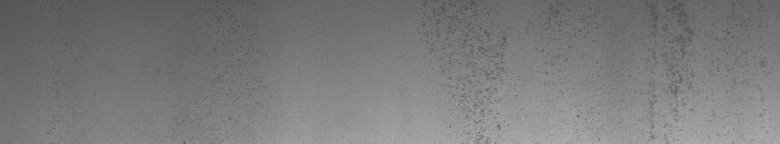ib: (424, 4, 583, 136)
